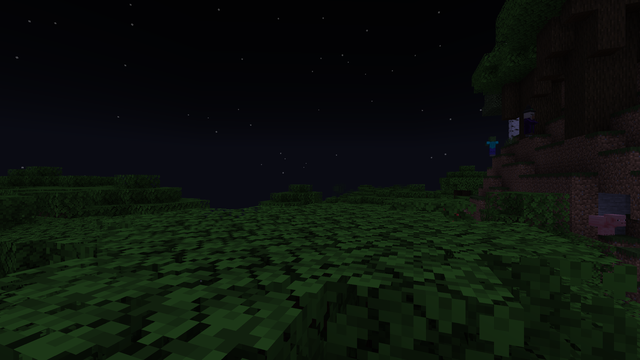cochons: (586, 213, 616, 235)
sorcieres: (522, 110, 534, 137)
zombies: (487, 136, 495, 156)
